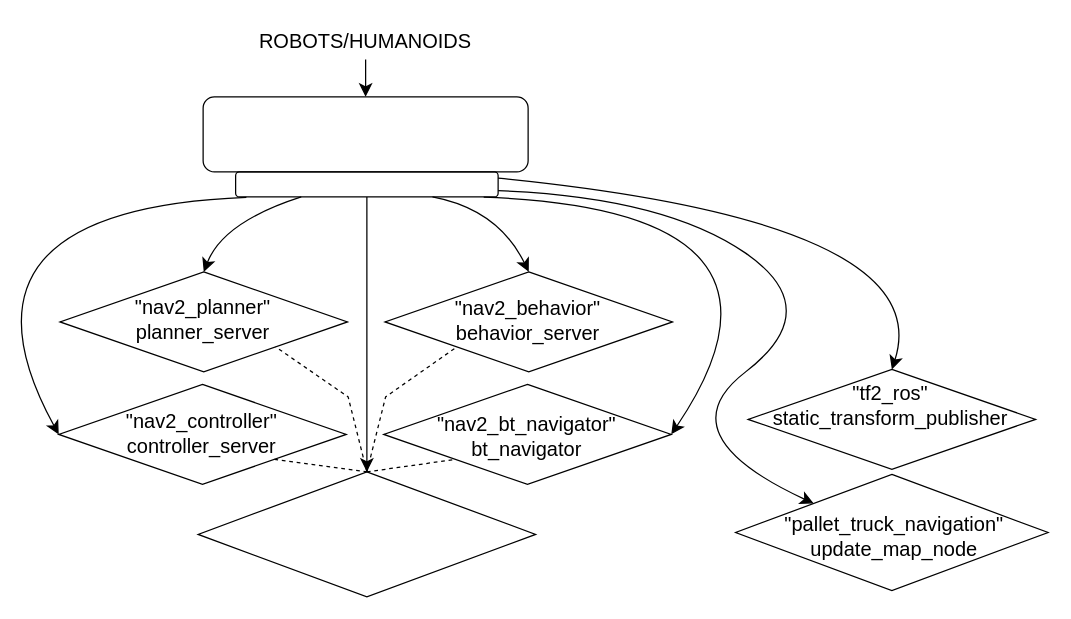
The diagram is 1071 pixels wide and 619 high, and some of its shapes have lost their labels. The shapes that lost their labels are listed below. From the top down, each one's centre as x and y in pixels, then its label:
(365,134): "pallet_truck_navigation" nav2.launch.py
(366,184): for each robot
(366,534): "nav3_lifecycle_manager" lifecycle_manager
